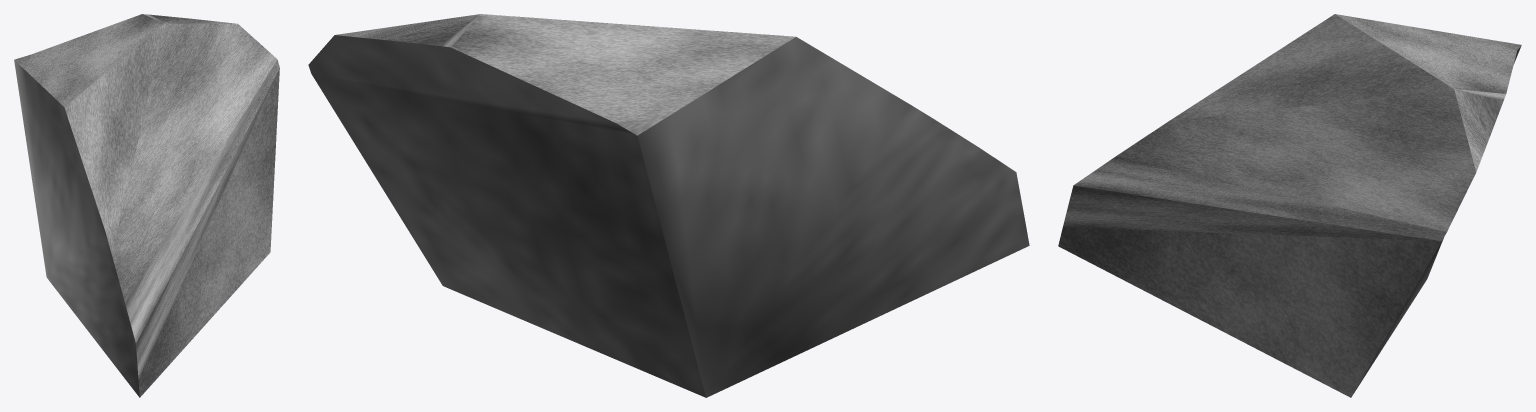
Rendered from leg_1_cell_004.fbx.
The picture shows the model from 3 angles, left to right: view 1: azimuth 30°, elevation 25°; view 2: azimuth 150°, elevation 25°; view 3: azimuth 270°, elevation 25°; orthographic projection. The views are drawn at different scales.
Visible parts, largest first — view 1: leg_1_cell.004; view 2: leg_1_cell.004; view 3: leg_1_cell.004.
Boxes of the visible parts, x1,y1,x2,y2 form: leg_1_cell.004: (14, 14, 279, 397); leg_1_cell.004: (308, 14, 1029, 397); leg_1_cell.004: (1058, 14, 1521, 397).
Size of the model in its own units: 19.46 by 13.61 by 21.23.
